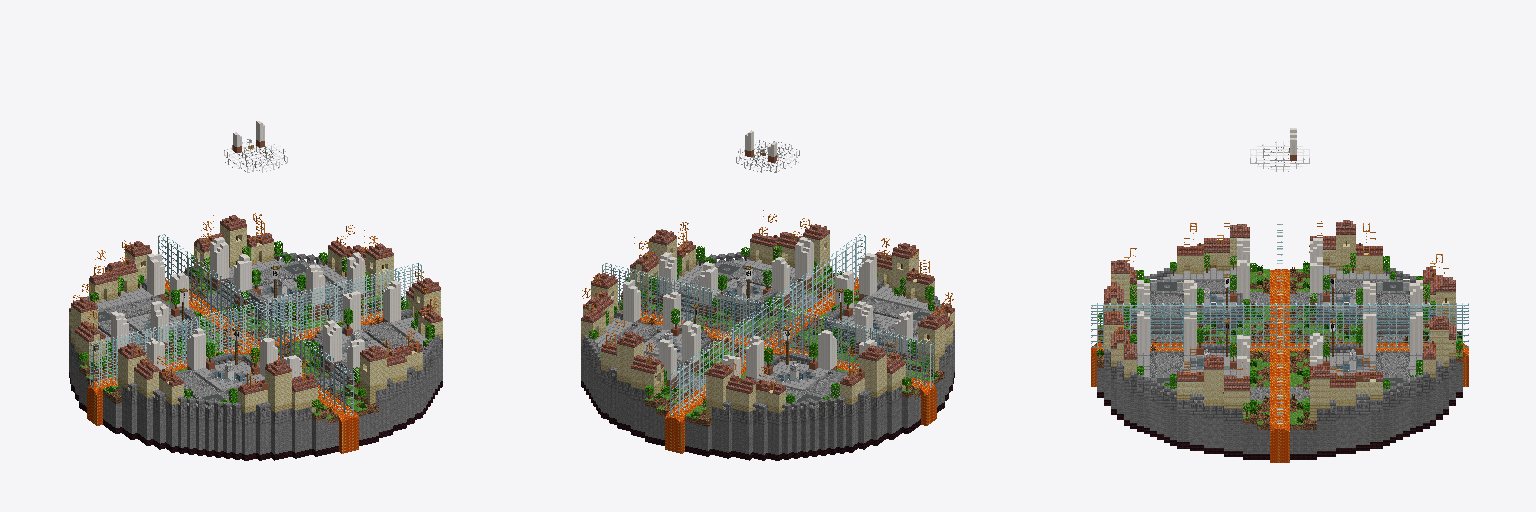
3 views of the same model, side by side, from view 1: azimuth 30°, elevation 25°; view 2: azimuth 150°, elevation 25°; view 3: azimuth 270°, elevation 25° (orthographic).
Bounding box in the file's own units: 57 × 42 × 57.
Materials: 45 (44 with a texture image).